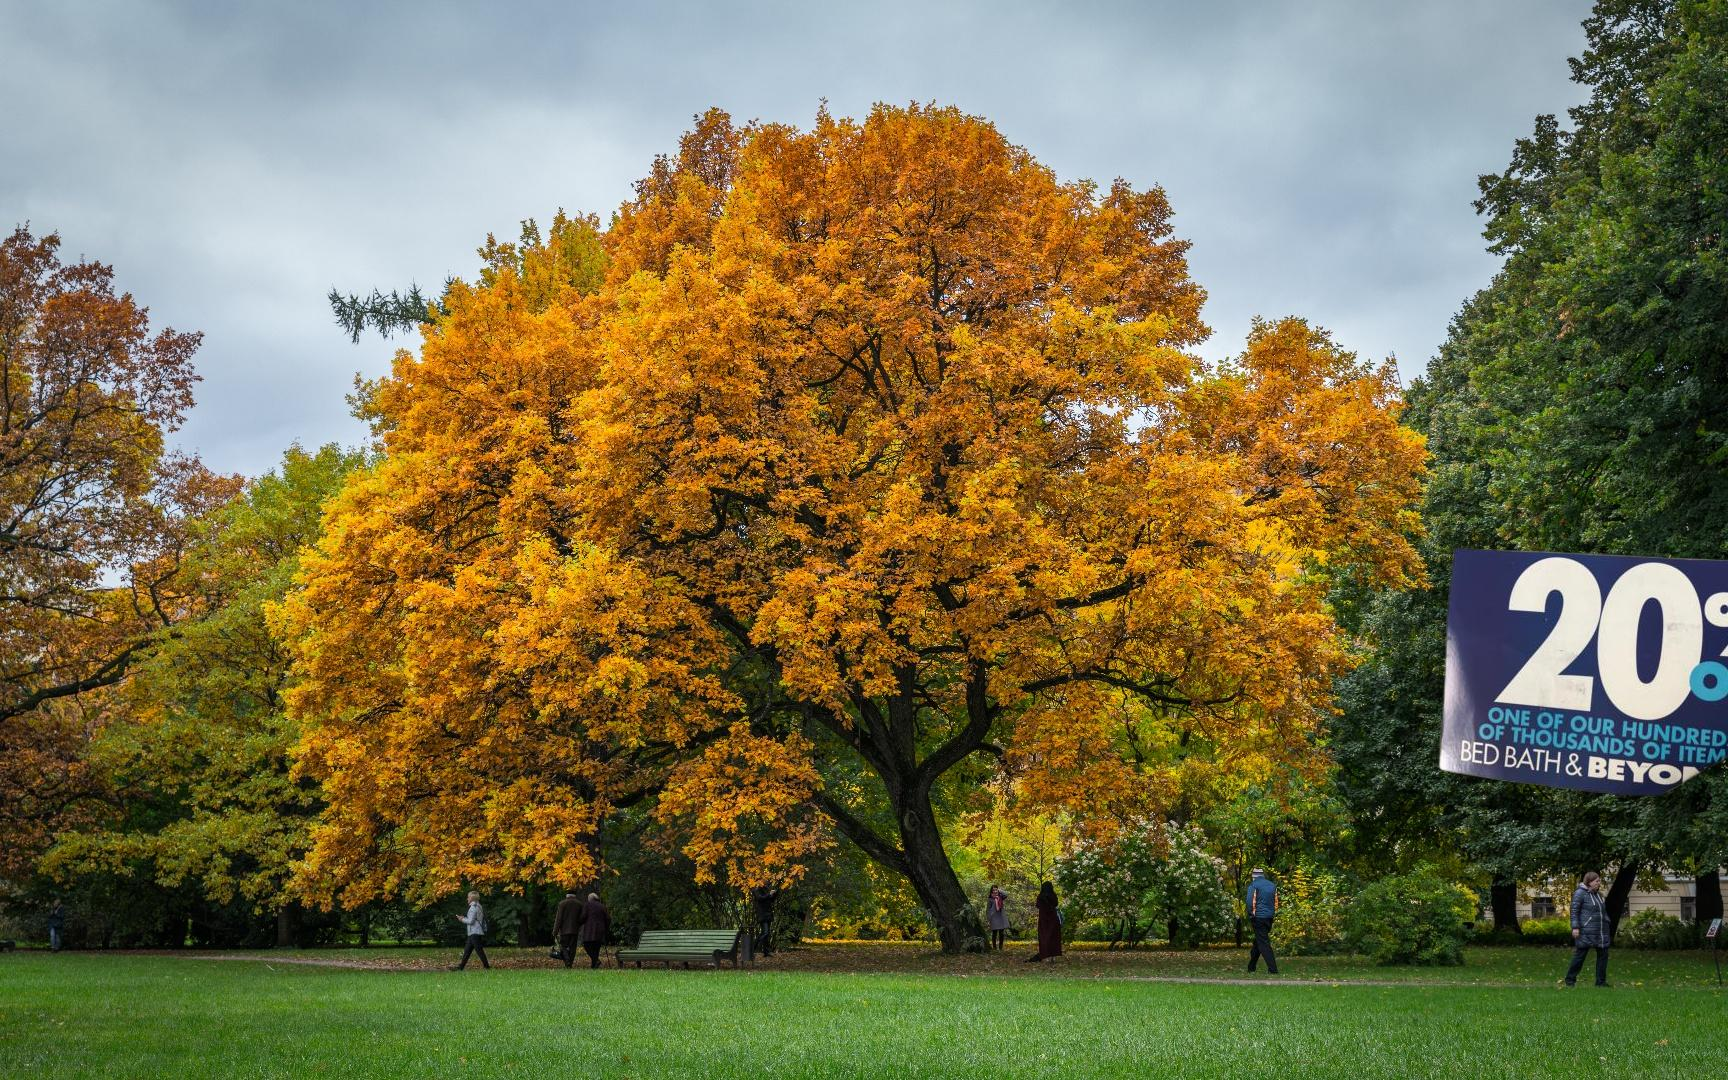paper: (1436, 544, 1728, 800)
